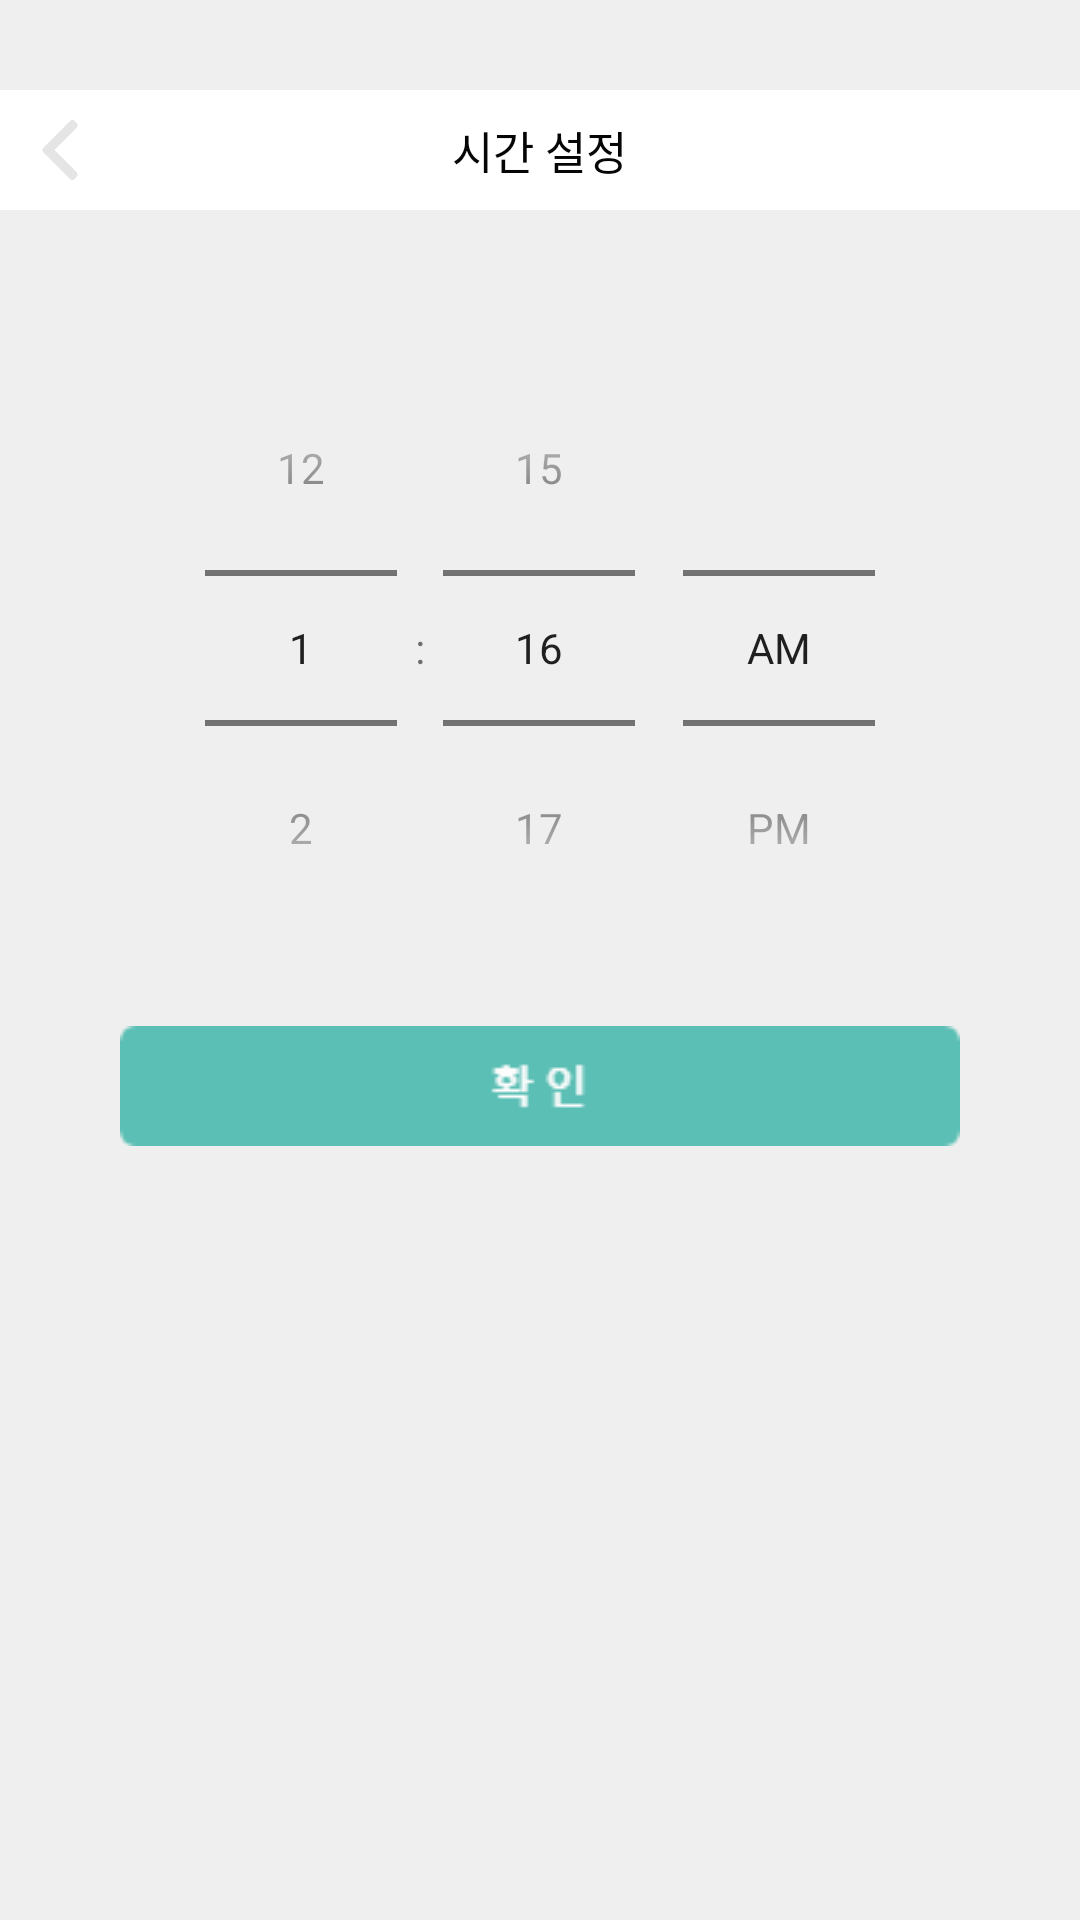

Icons on this 1080 × 1920 Android screen, each with its box as {"x1": x1, "y1": y1, "x2": x2, "y2": y2}:
left arrow: {"x1": 43, "y1": 120, "x2": 77, "y2": 180}
